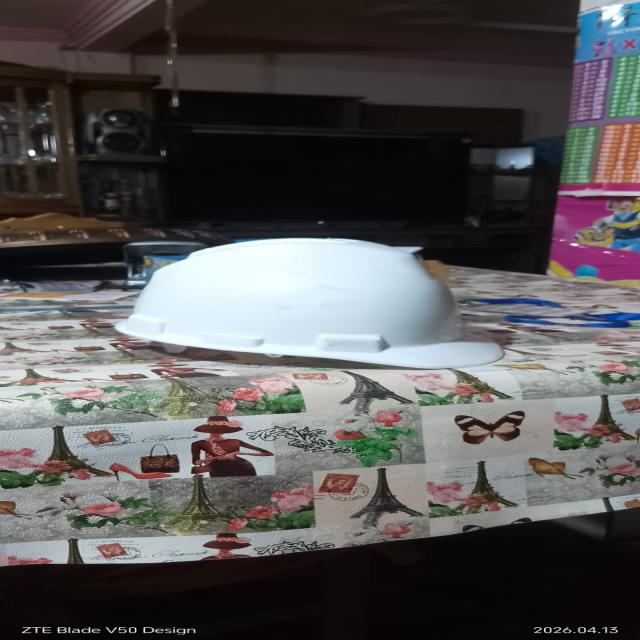casco: (107, 227, 538, 381)
